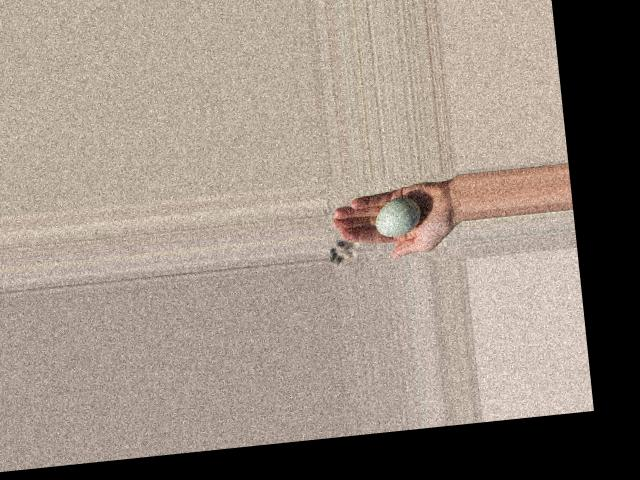egg: (373, 195, 421, 237)
